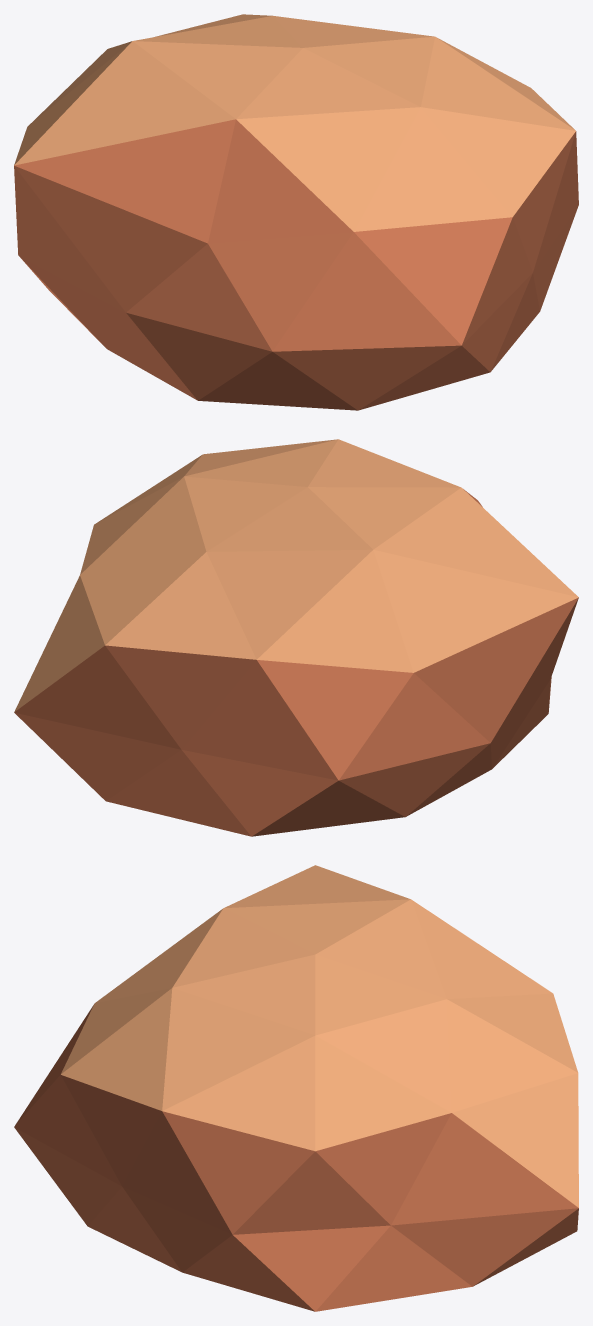
The model's file is rock_sandstone_c.glb.
3 views of the same model, one above another, from view 1: azimuth 30°, elevation 25°; view 2: azimuth 150°, elevation 25°; view 3: azimuth 270°, elevation 25° (orthographic). The views are drawn at different scales.
Visible parts, largest first — view 1: rock_sandstone_c; view 2: rock_sandstone_c; view 3: rock_sandstone_c.
Boxes of the visible parts, x1,y1,x2,y2 form: rock_sandstone_c: (14,14,578,410); rock_sandstone_c: (14,439,578,836); rock_sandstone_c: (14,865,578,1311).
Bounding box in the file's own units: 1.14 × 0.5091 × 1.08.
